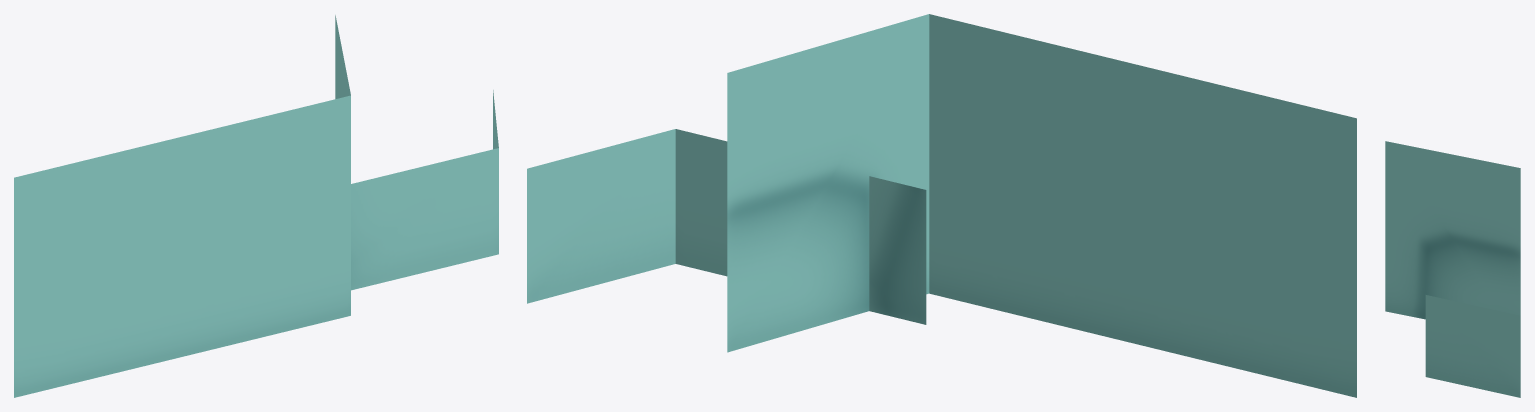
The model's file is Stone_01.FBX.
The picture shows the model from 3 angles, left to right: view 1: azimuth 30°, elevation 25°; view 2: azimuth 150°, elevation 25°; view 3: azimuth 270°, elevation 25°; orthographic projection. The views are drawn at different scales.
Visible parts, largest first — view 1: Stone_01; view 2: Stone_01; view 3: Stone_01.
Part boxes in pixels (bbox=[...]): Stone_01: bbox=[14, 15, 498, 397]; Stone_01: bbox=[527, 14, 1356, 397]; Stone_01: bbox=[1385, 141, 1520, 397].
Bounding box in the file's own units: 10.71 × 3.98 × 2.86.
